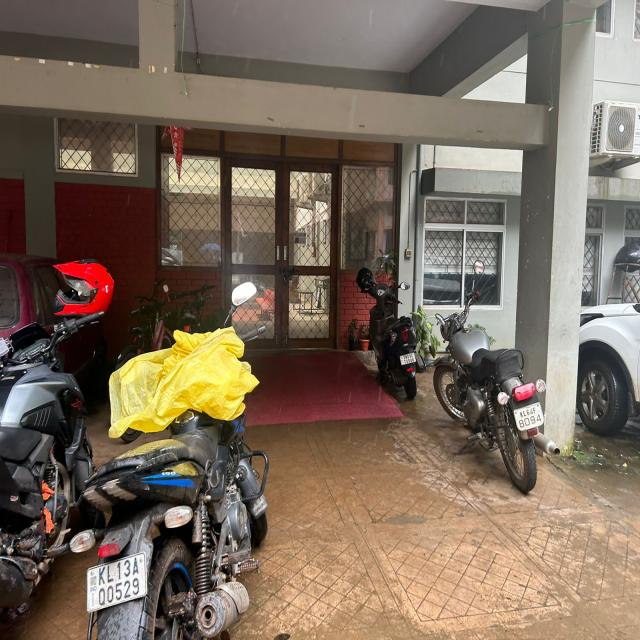motorcycle ahead at: (80, 331, 276, 640), (427, 264, 543, 500), (0, 299, 68, 615), (352, 262, 420, 394)
pillar ahead at: (522, 8, 587, 455)
